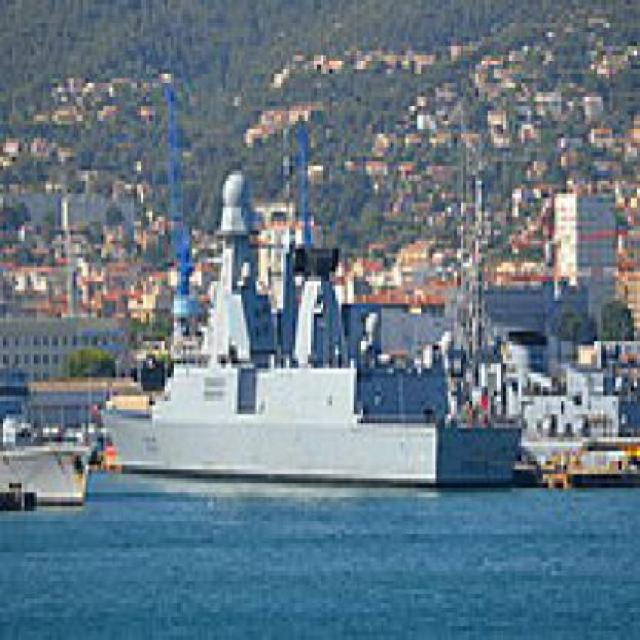warship2: (95, 130, 513, 513)
